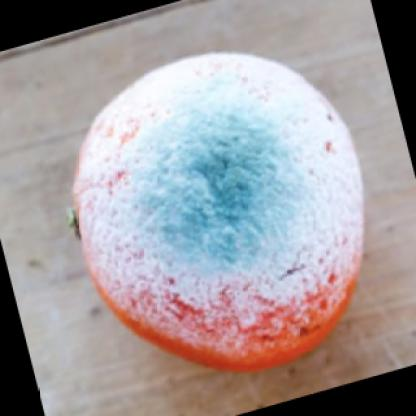rotten_orange: (65, 49, 368, 377)
